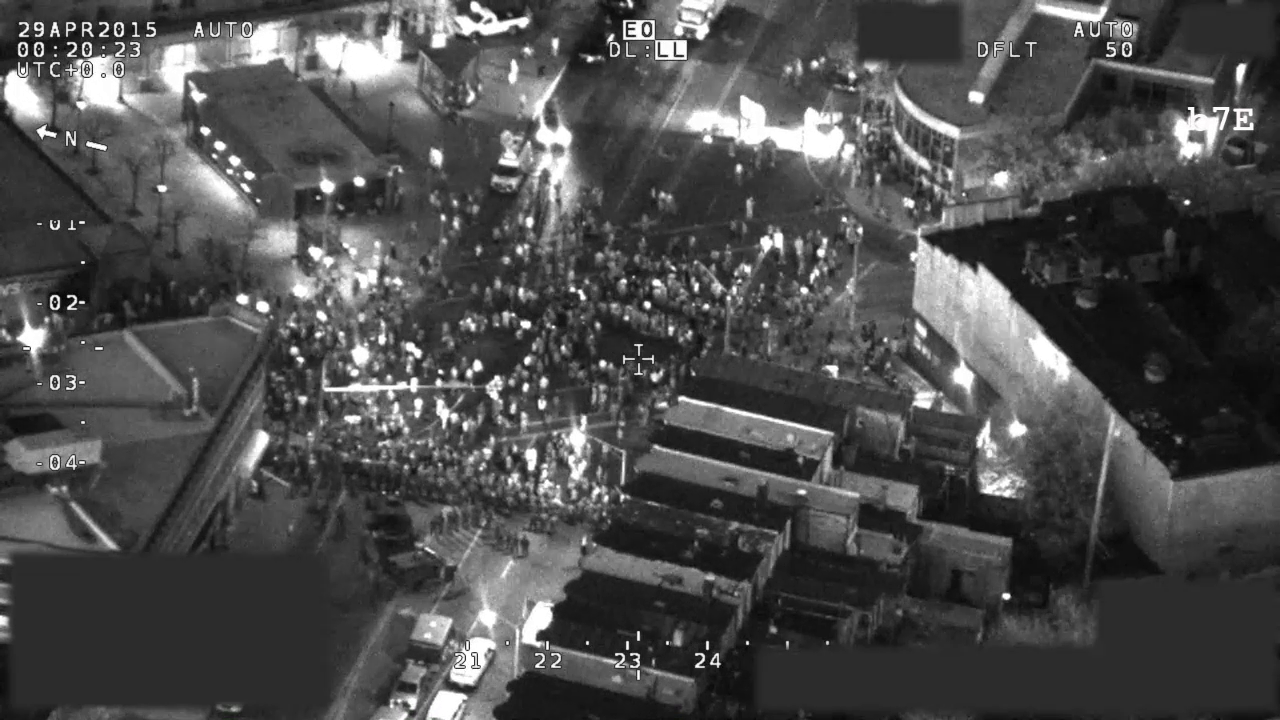vehicle: (443, 1, 540, 46), (572, 1, 640, 63), (504, 286, 582, 340), (367, 491, 420, 567), (389, 544, 462, 599), (446, 630, 502, 694), (487, 130, 535, 200), (385, 661, 437, 714), (408, 613, 462, 661), (519, 590, 554, 656)
